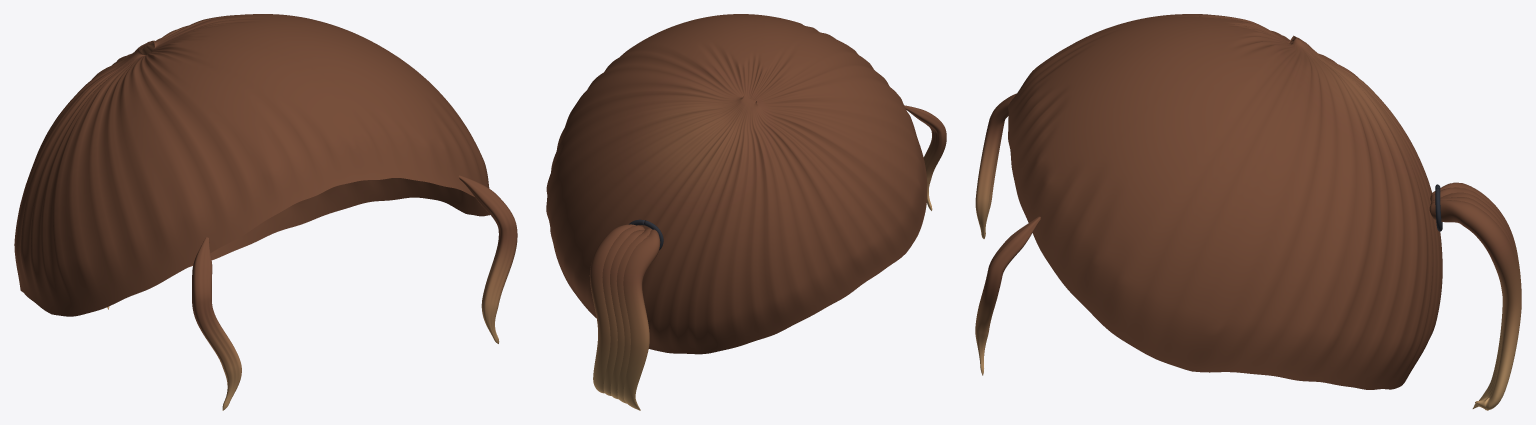
Rendered from ponytail-cowboy-ombre.glb.
3 views of the same model, side by side, from view 1: azimuth 30°, elevation 25°; view 2: azimuth 150°, elevation 25°; view 3: azimuth 270°, elevation 25° (orthographic). The views are drawn at different scales.
Parts seen in each view (by area): view 1: 226 hair / Hair / crisp pulled roots220.001, 226 hair / Hair / sculpted front locks222.001; view 2: 226 hair / Hair / crisp pulled roots220.001, 226 hair / Hair / chestnut226, 226 hair / Hair / sculpted front locks222.001; view 3: 226 hair / Hair / crisp pulled roots220.001, 226 hair / Hair / chestnut226, 226 hair / Hair / sculpted front locks222.001.
Boxes of the visible parts, left/top/right/bottom form: 226 hair / Hair / crisp pulled roots220.001: left=14, top=14, right=489, bottom=316; 226 hair / Hair / sculpted front locks222.001: left=192, top=175, right=517, bottom=410; 226 hair / Hair / crisp pulled roots220.001: left=546, top=14, right=927, bottom=354; 226 hair / Hair / chestnut226: left=589, top=224, right=660, bottom=410; 226 hair / Hair / sculpted front locks222.001: left=904, top=105, right=946, bottom=210; 226 hair / Hair / crisp pulled roots220.001: left=1008, top=14, right=1442, bottom=389; 226 hair / Hair / chestnut226: left=1429, top=182, right=1521, bottom=410; 226 hair / Hair / sculpted front locks222.001: left=975, top=93, right=1040, bottom=375.
Bounding box in the file's own units: 0.7726 × 0.6579 × 0.8609.
4 materials, 3 textured.
